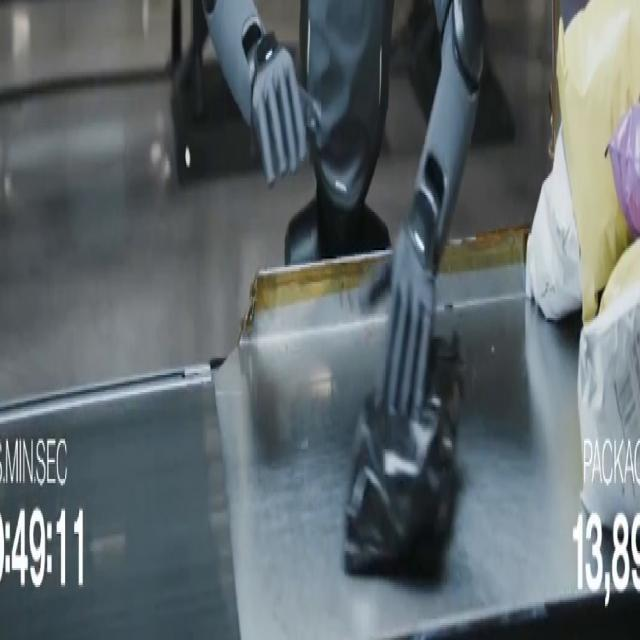package: (344, 337, 462, 576), (556, 0, 639, 324), (578, 242, 639, 527), (526, 126, 582, 319), (608, 104, 639, 237), (600, 240, 639, 313)
